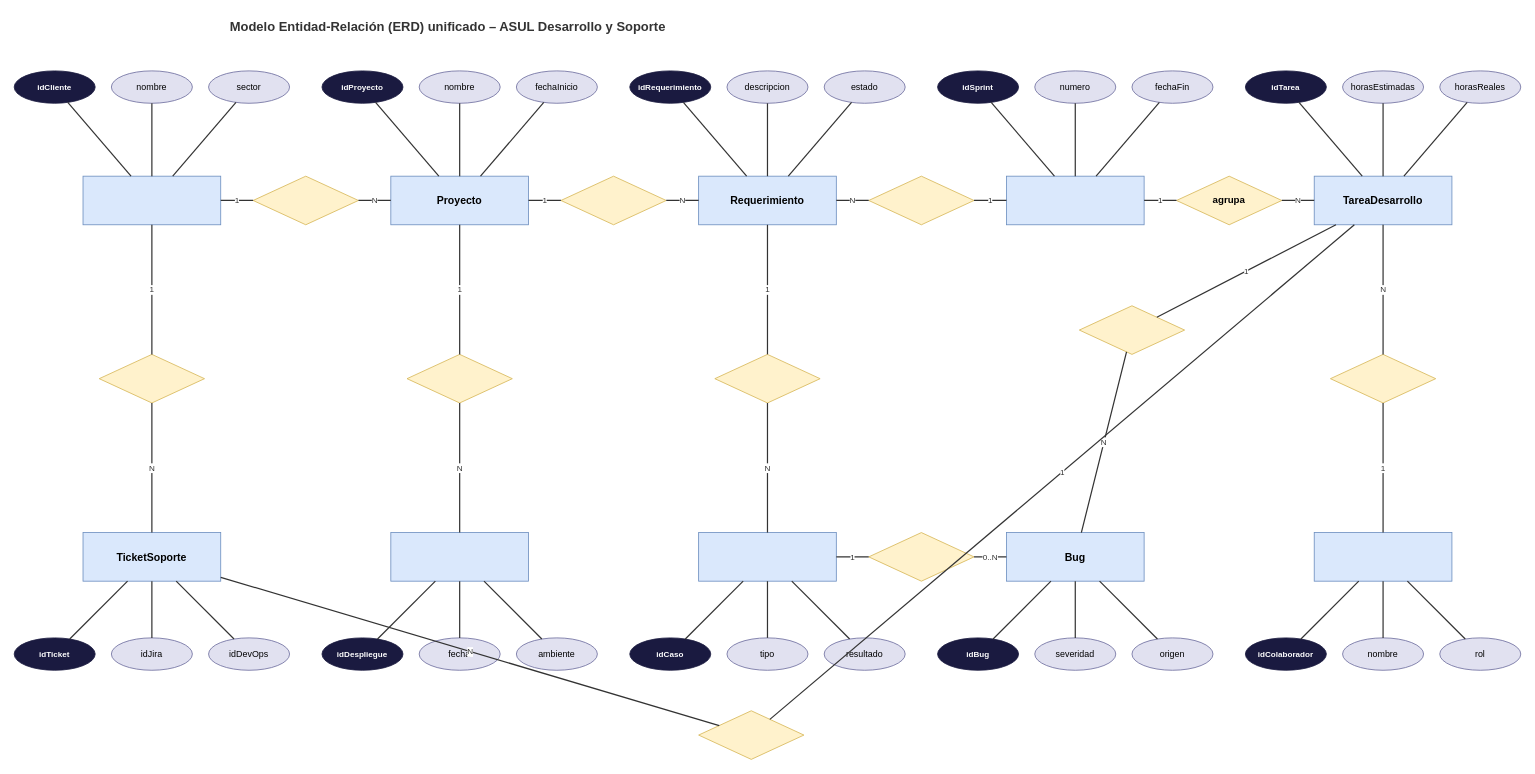
This 1535x774 diagram has some shape labels left out. The shapes that lost their labels are listed below. From the top down, each one's box as (x1, y1, x2, y2) in pixels, then its label:
(82, 175, 221, 225): Cliente
(252, 175, 358, 225): solicita
(560, 175, 666, 225): incluye
(868, 175, 974, 225): planifica
(1006, 175, 1144, 225): Sprint
(1079, 305, 1185, 354): corrige
(98, 354, 205, 403): reporta
(406, 354, 512, 403): culmina en
(714, 354, 820, 403): se valida con
(1330, 354, 1436, 403): es realizada por
(390, 532, 529, 581): Despliegue
(698, 532, 836, 581): CasoPrueba
(868, 532, 974, 581): detecta
(1313, 532, 1452, 581): Colaborador
(698, 710, 804, 759): se gestiona como
